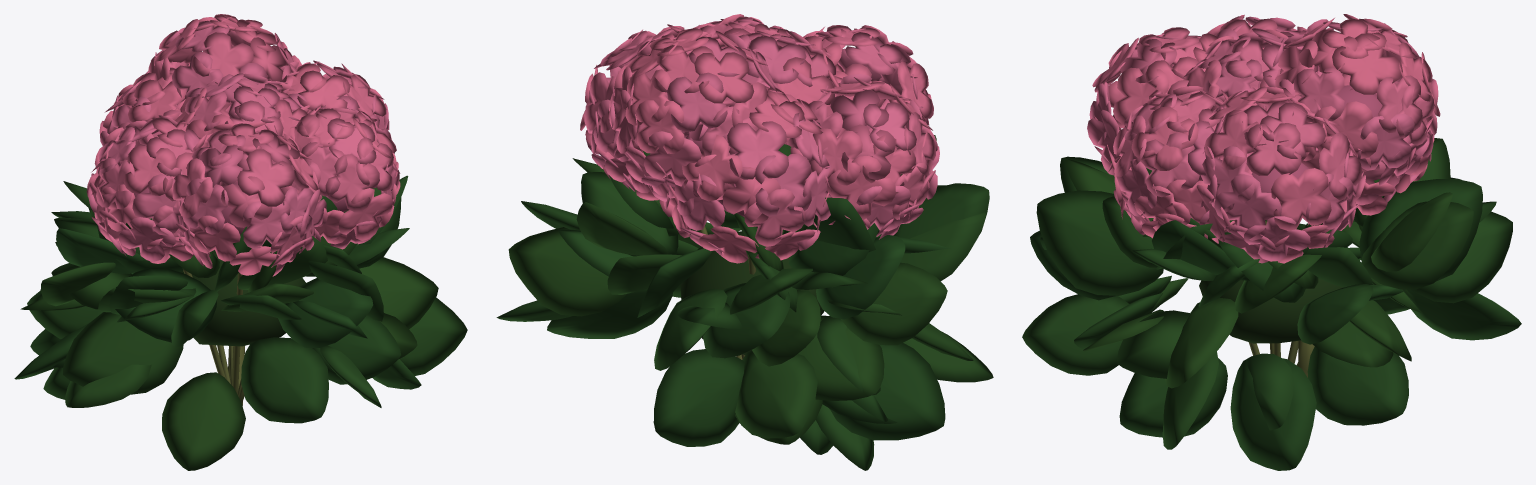
Rendered from bed_hydrangea_pink.glb.
The picture shows the model from 3 angles, left to right: view 1: azimuth 30°, elevation 25°; view 2: azimuth 150°, elevation 25°; view 3: azimuth 270°, elevation 25°; orthographic projection. The views are drawn at different scales.
Parts seen in each view (by area): view 1: Sammel Pflanze, Sammel Blatt, Sammel Putz; view 2: Sammel Pflanze, Sammel Blatt; view 3: Sammel Pflanze, Sammel Blatt, Sammel Putz.
Boxes of the visible parts, box(x1,y1,x2,y2) form: Sammel Pflanze: box(14, 14, 467, 470); Sammel Blatt: box(180, 243, 305, 346); Sammel Putz: box(183, 269, 244, 405); Sammel Pflanze: box(496, 14, 993, 470); Sammel Blatt: box(680, 231, 824, 355); Sammel Pflanze: box(1022, 14, 1521, 470); Sammel Blatt: box(1199, 228, 1342, 343); Sammel Putz: box(1248, 221, 1314, 377).
Size of the model in its own units: 0.7986 by 0.7401 by 0.8085.
